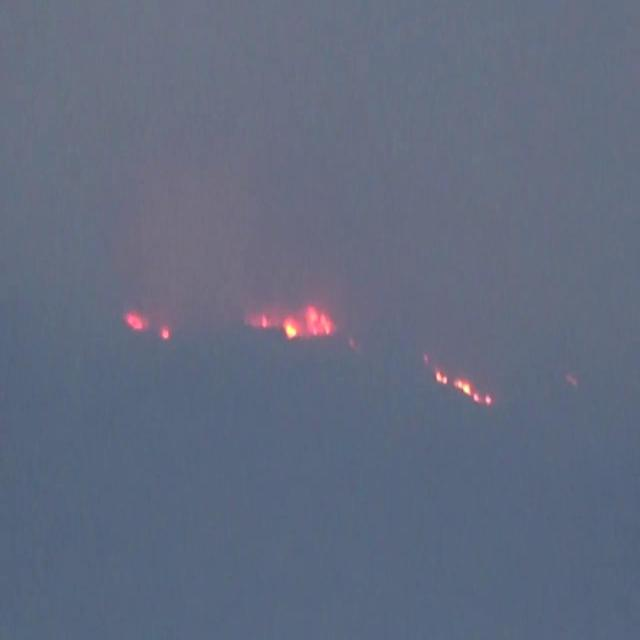Fire: (248, 311, 333, 342), (436, 369, 492, 404), (124, 311, 146, 331), (160, 324, 171, 340)
